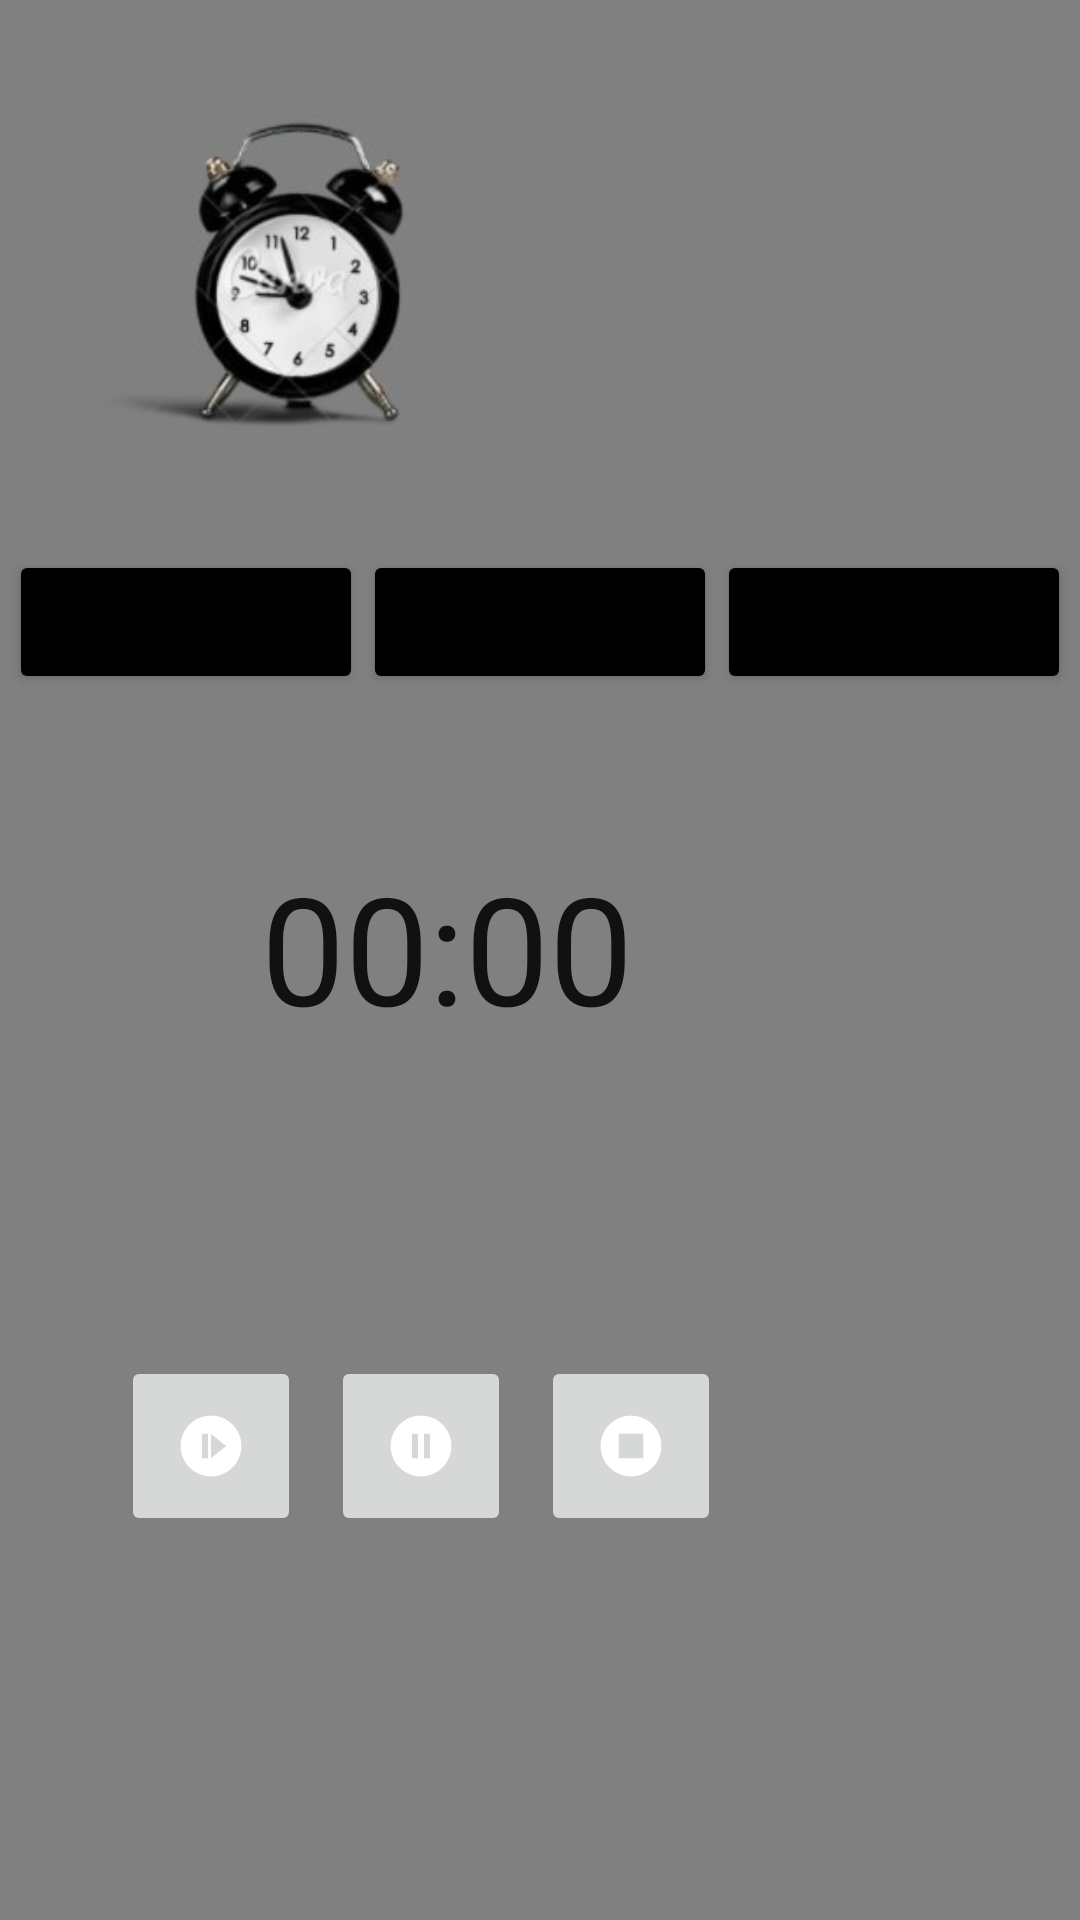

Icons on this 1080px×1920px Android screen, each with the point to tap as point (x, y):
pause: point (421, 1446)
start: point (211, 1446)
stop: point (631, 1446)
